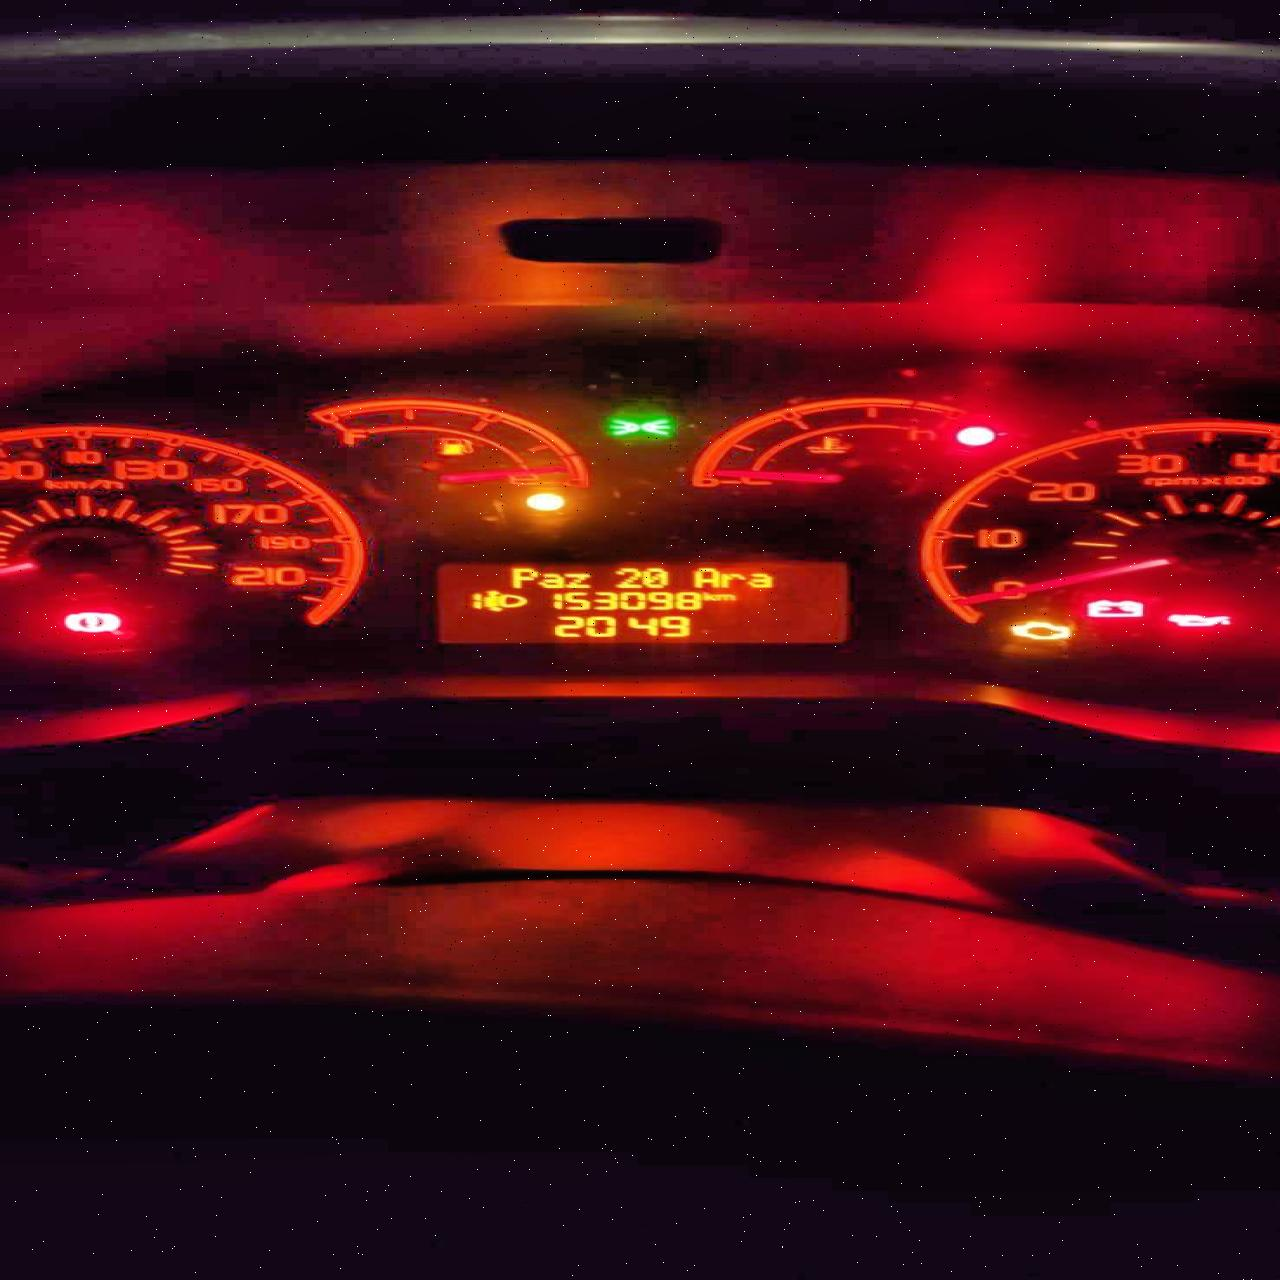0: (583, 614, 614, 639), (640, 566, 666, 587), (619, 590, 644, 611)
1: (550, 591, 561, 613), (470, 591, 482, 612)
2: (553, 614, 581, 638), (612, 566, 641, 588)
3: (593, 591, 618, 611)
4: (626, 615, 658, 636)
5: (564, 591, 590, 612)
8: (673, 591, 701, 611)
9: (659, 615, 692, 638), (645, 591, 673, 611)
X: (509, 566, 538, 588), (692, 566, 719, 588), (564, 572, 593, 588), (538, 571, 563, 588), (720, 571, 744, 587), (747, 573, 771, 587), (716, 592, 737, 601), (701, 591, 716, 601)
odometer: (435, 560, 855, 645)
